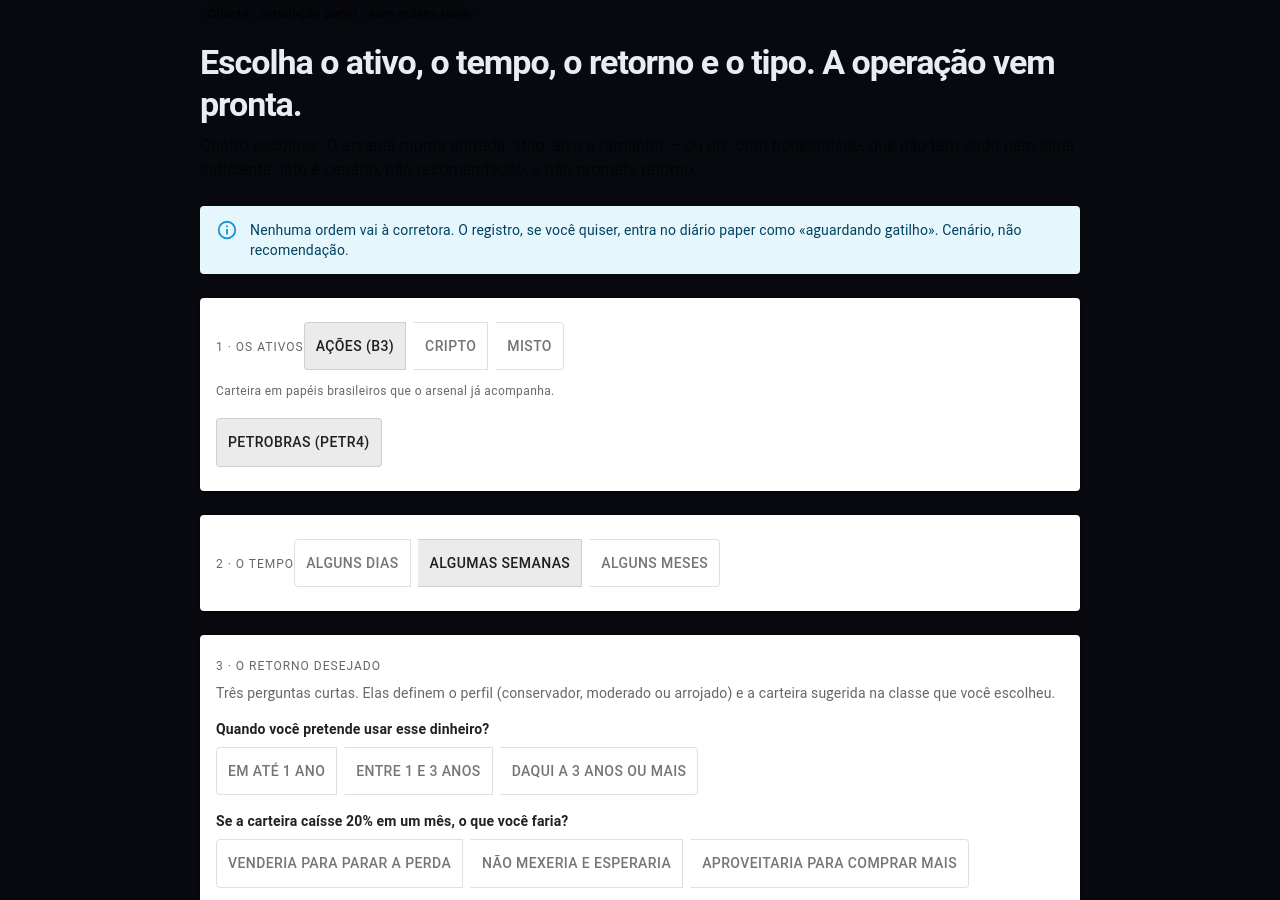
Test: ReadyOperationPage › shows unsized state instead of inventing size or notional
This screenshot has width=1280, height=900.
Click the button "Cripto" at (451, 346), box [413,322,488,370]
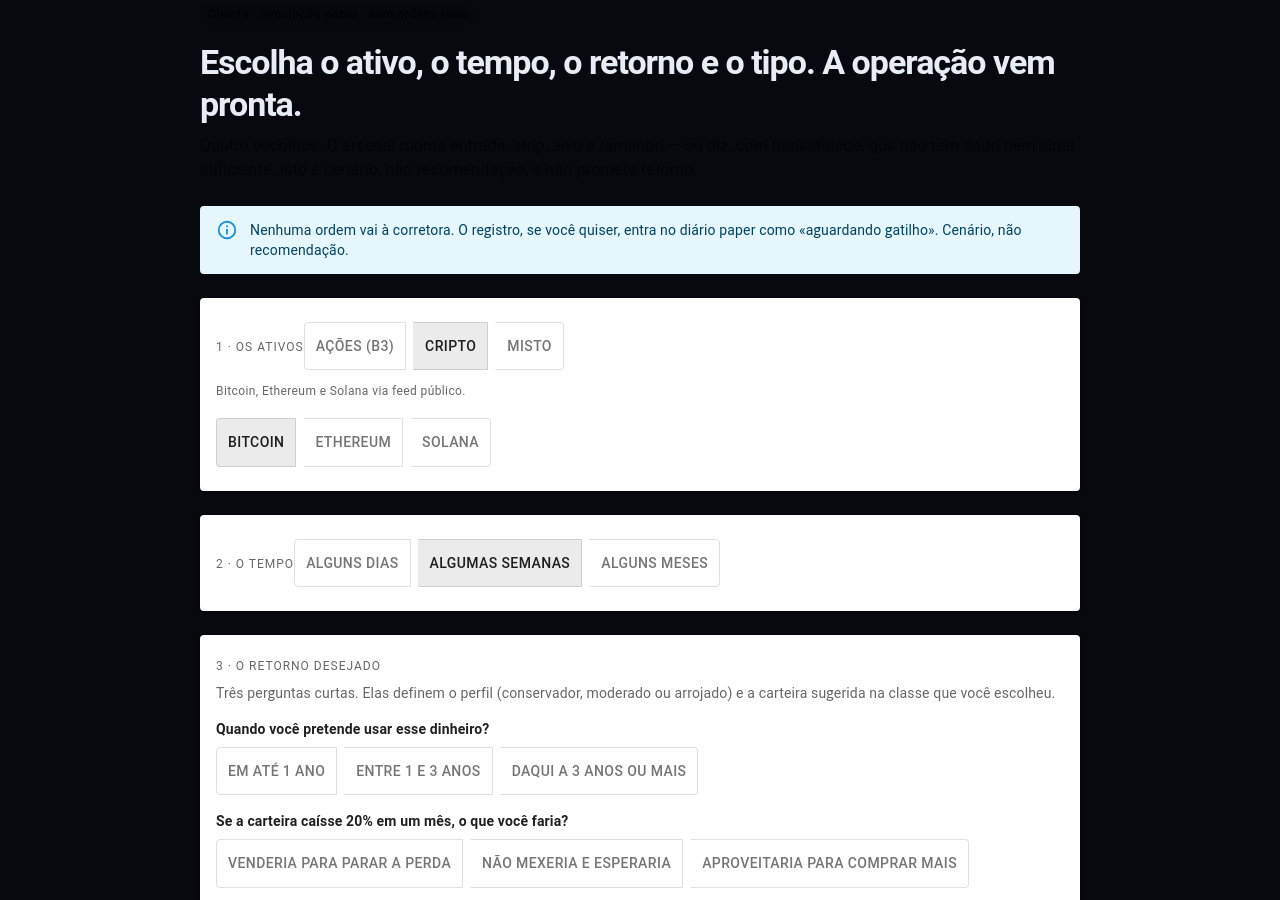
Click the button "Bitcoin" at (256, 442), box [216,418,296,466]
(page scrolled)
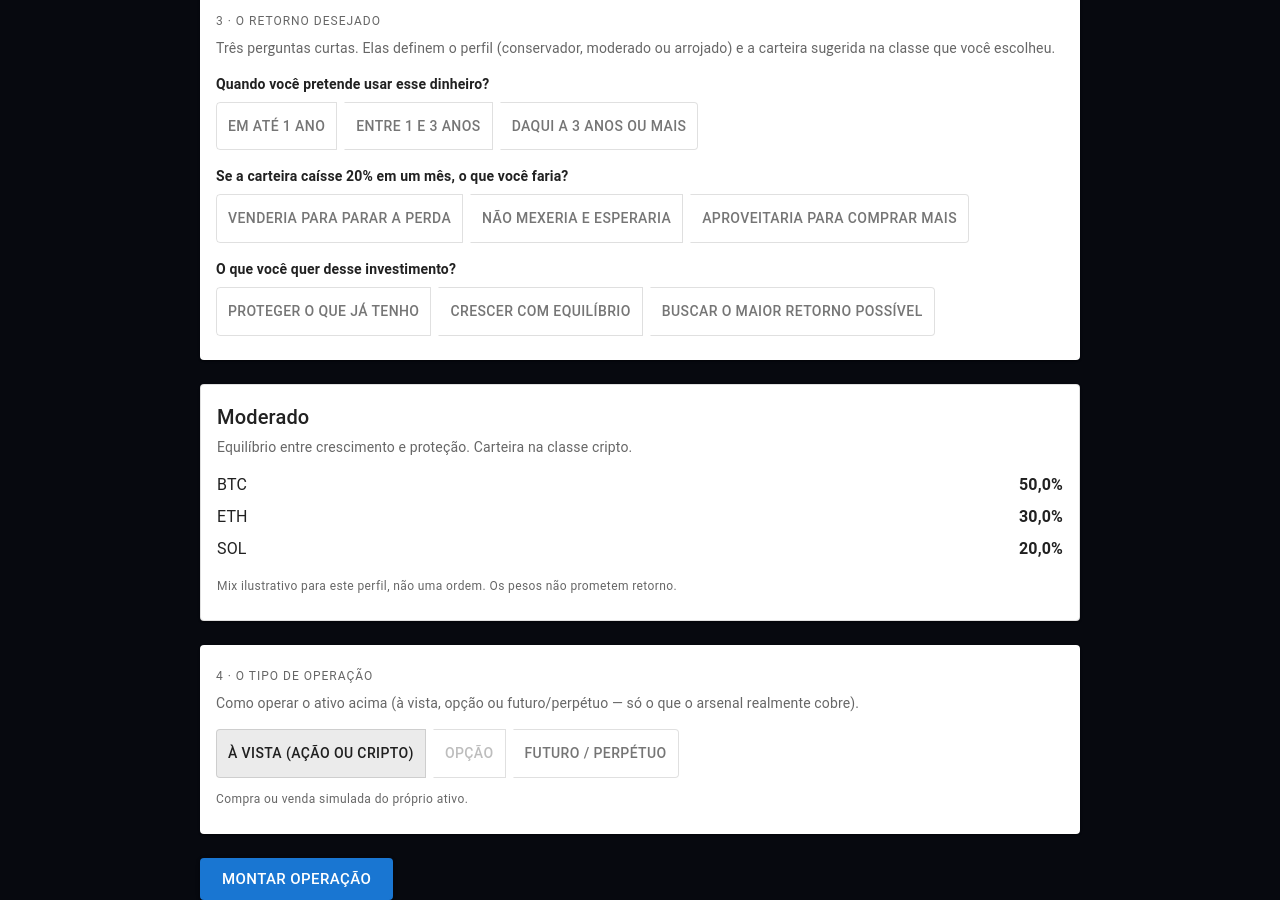
Click the button "Montar operação" at (297, 879), box [200,858,393,899]
(page scrolled)
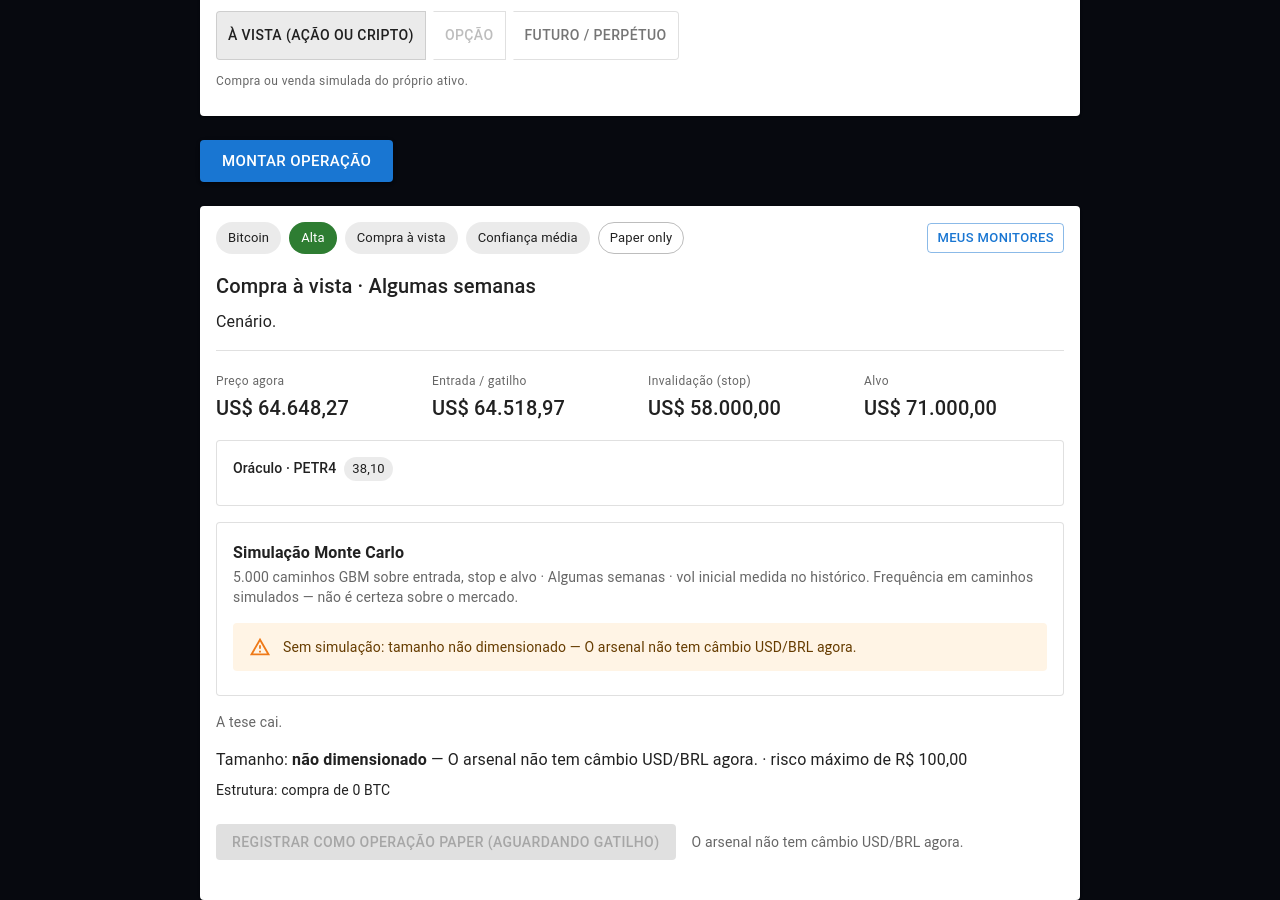
Check: the text "não dimensionado" is shown, box [292,750,427,769]
Check: the text "não tem câmbio USD/BRL agora" is shown 3 times, box [283,639,857,655]; [216,748,1064,772]; [692,832,964,852]
Check: the text "Sem simulação: tamanho não dimensionado" is shown, box [283,639,566,655]
